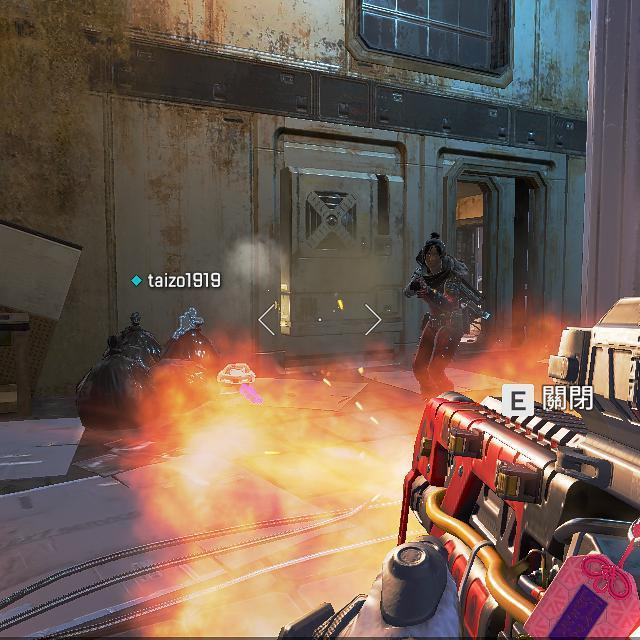avatar: (402, 231, 490, 395)
